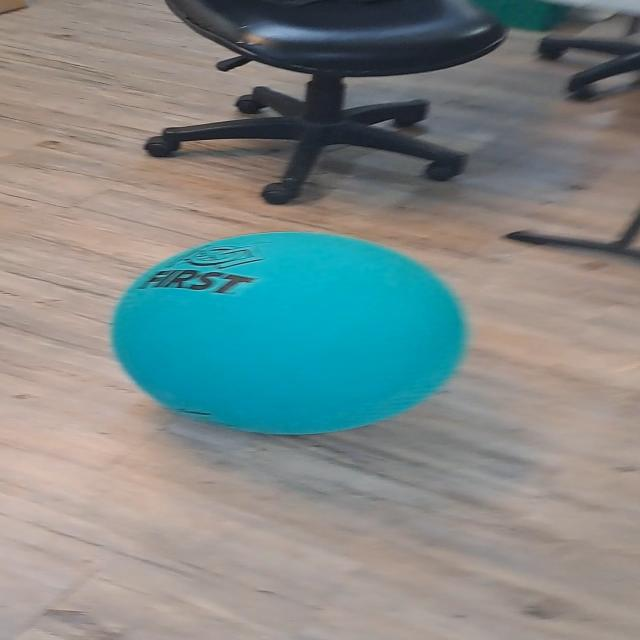ALGAE: (108, 229, 470, 436)
